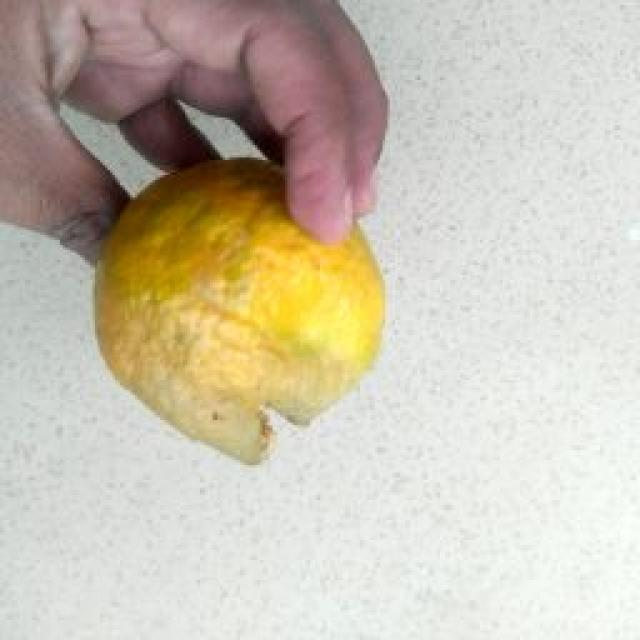Bad_Orange: (96, 161, 384, 463)
